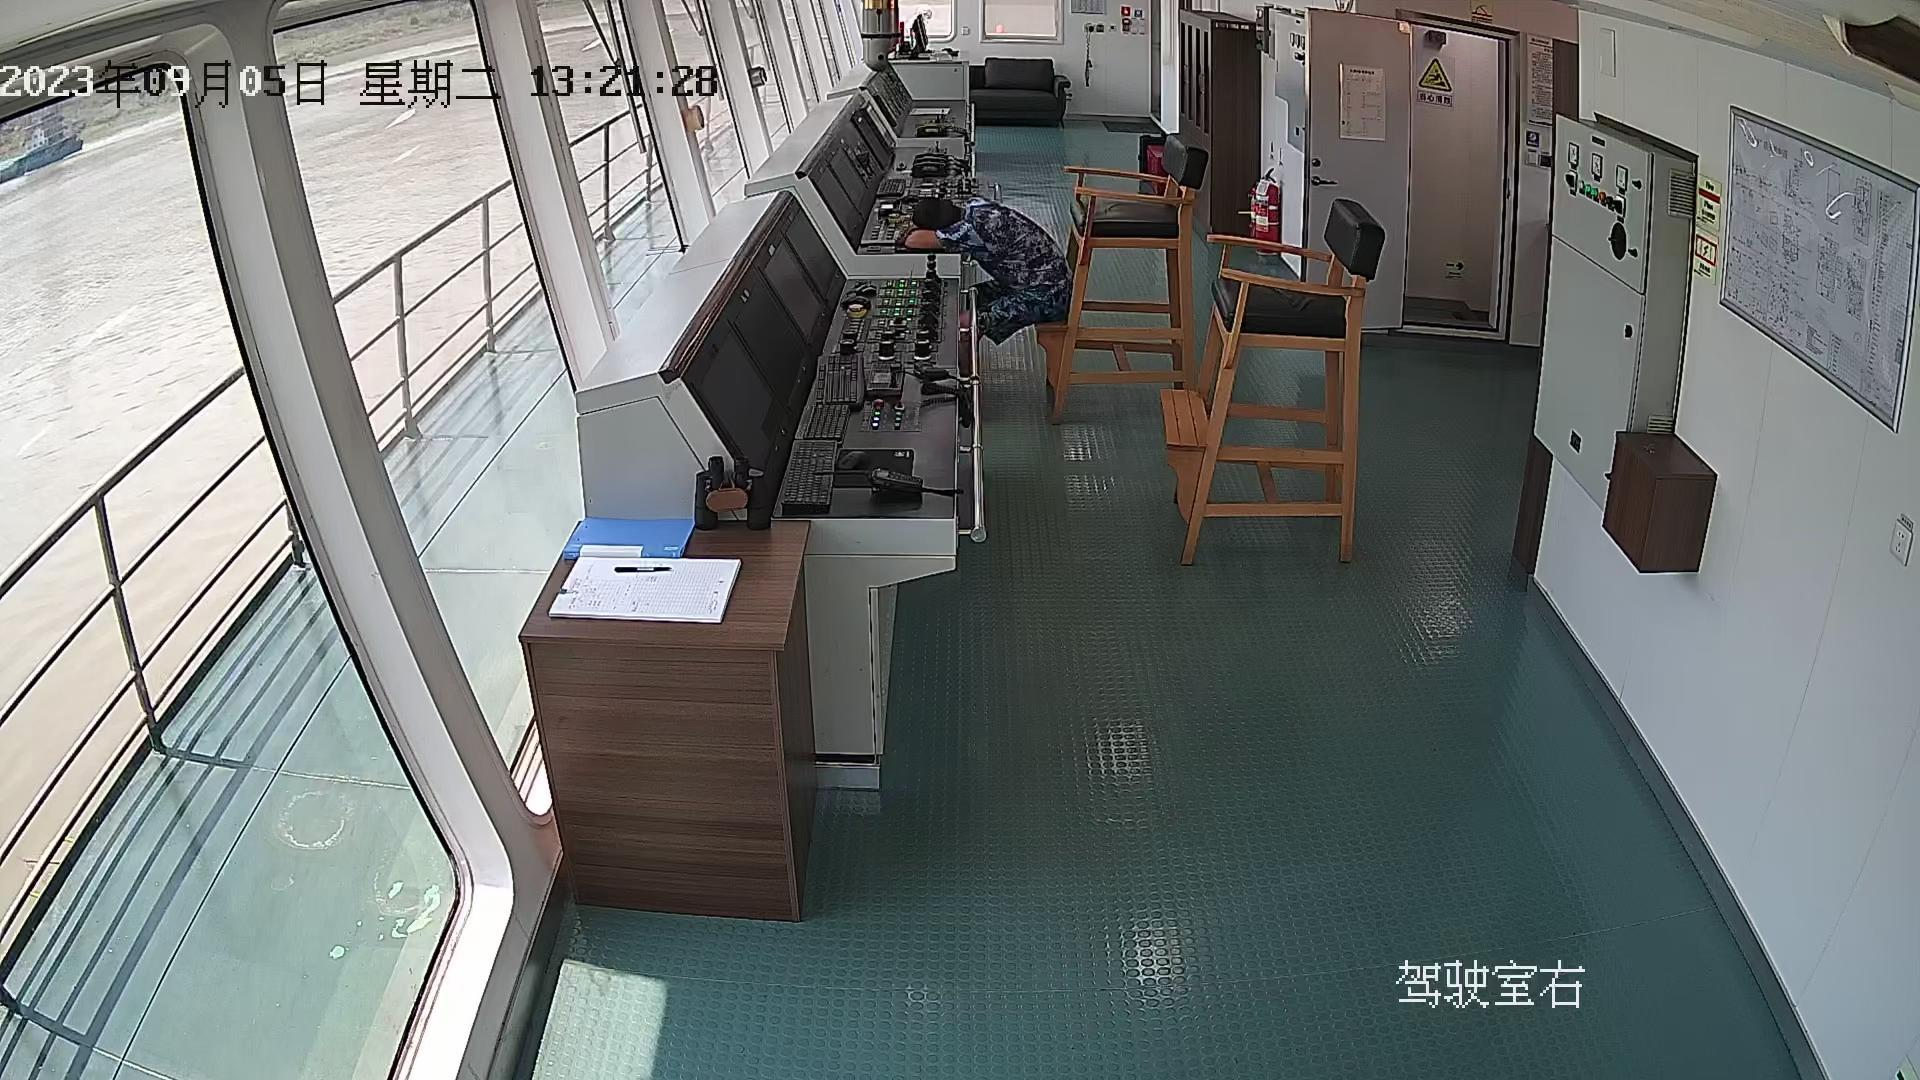sleep: (901, 185, 1075, 344)
